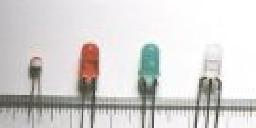LED: (194, 43, 228, 99), (72, 39, 104, 98), (135, 42, 162, 100), (27, 56, 47, 93)
